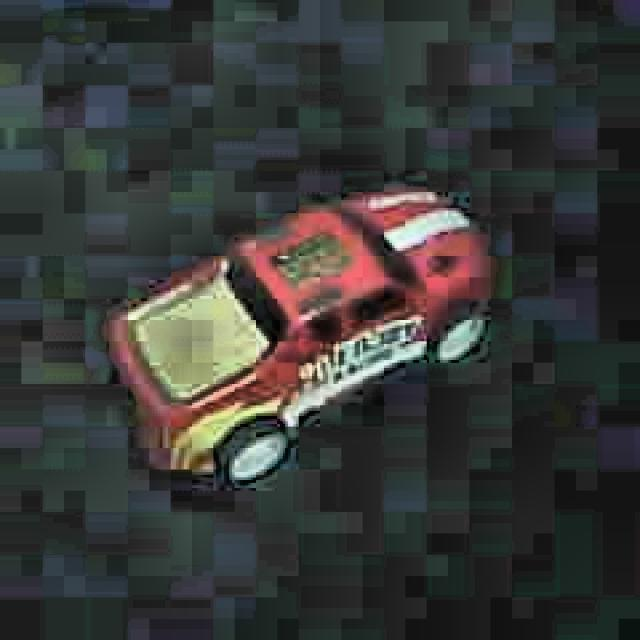car: (106, 180, 500, 493)
